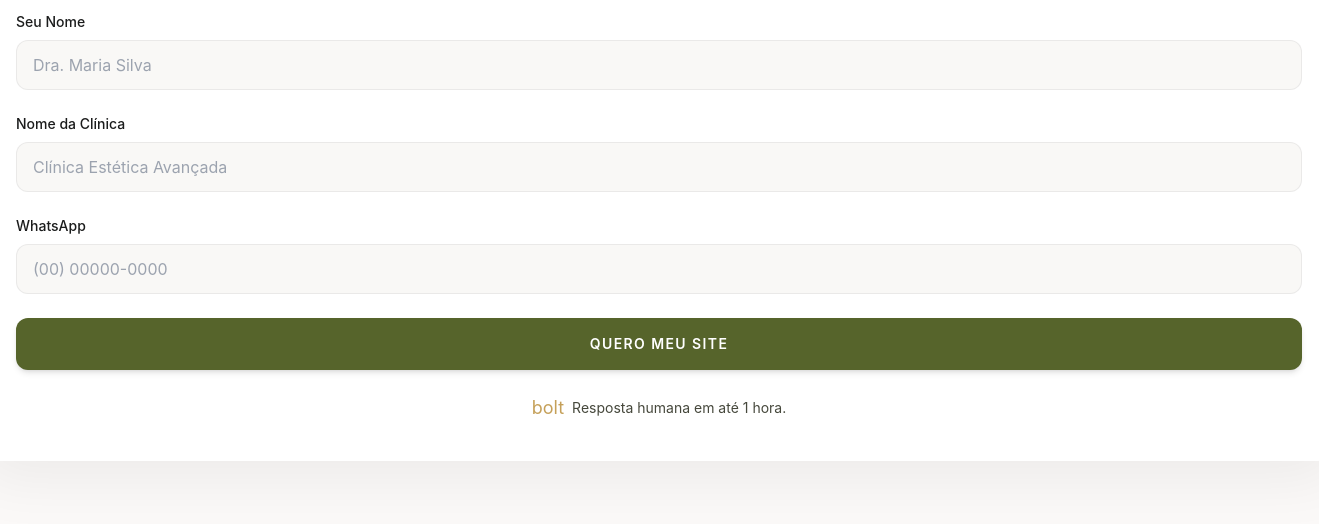
Test: LeadForm › shows an error message when the API fails and keeps the form
The image size is (1319, 524).
Type "Dra. Ana" into the field labelled "Seu Nome" at (659, 65), box [16,40,1302,90]
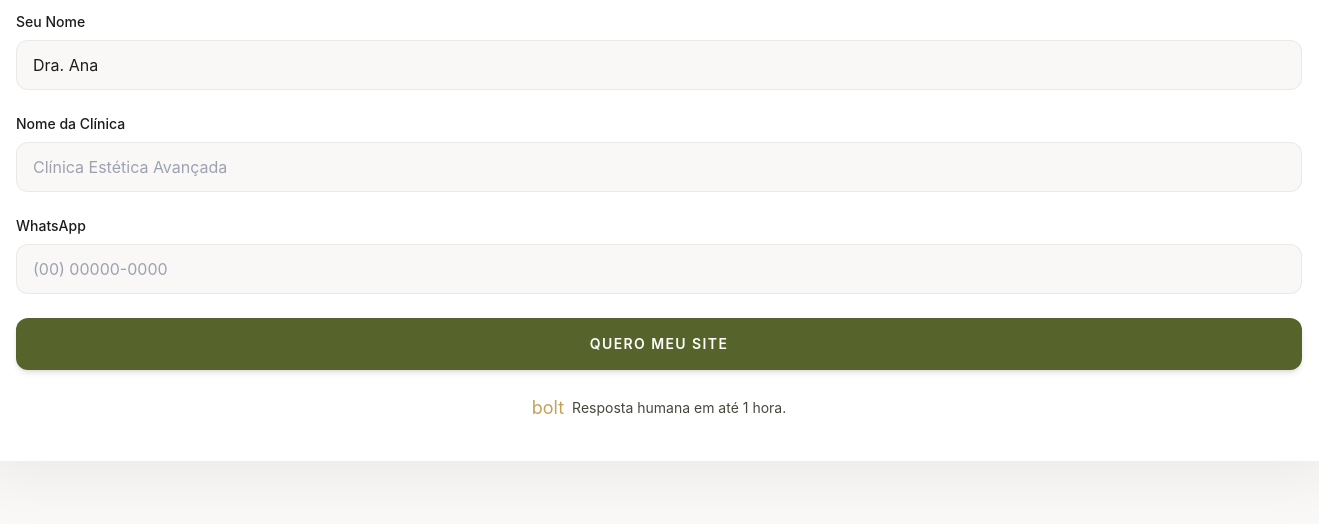
Type "Clínica Bella" into the field labelled "Nome da Clínica" at (659, 167), box [16,142,1302,192]
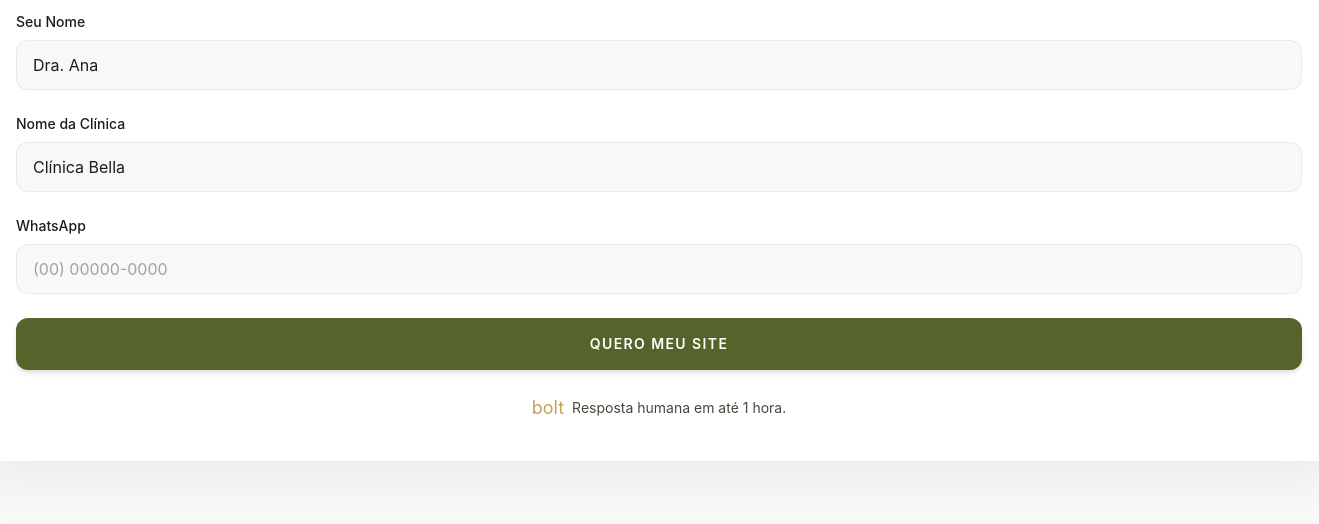
Type "(62) 99999-0000" into the field labelled "WhatsApp" at (659, 269), box [16,244,1302,294]
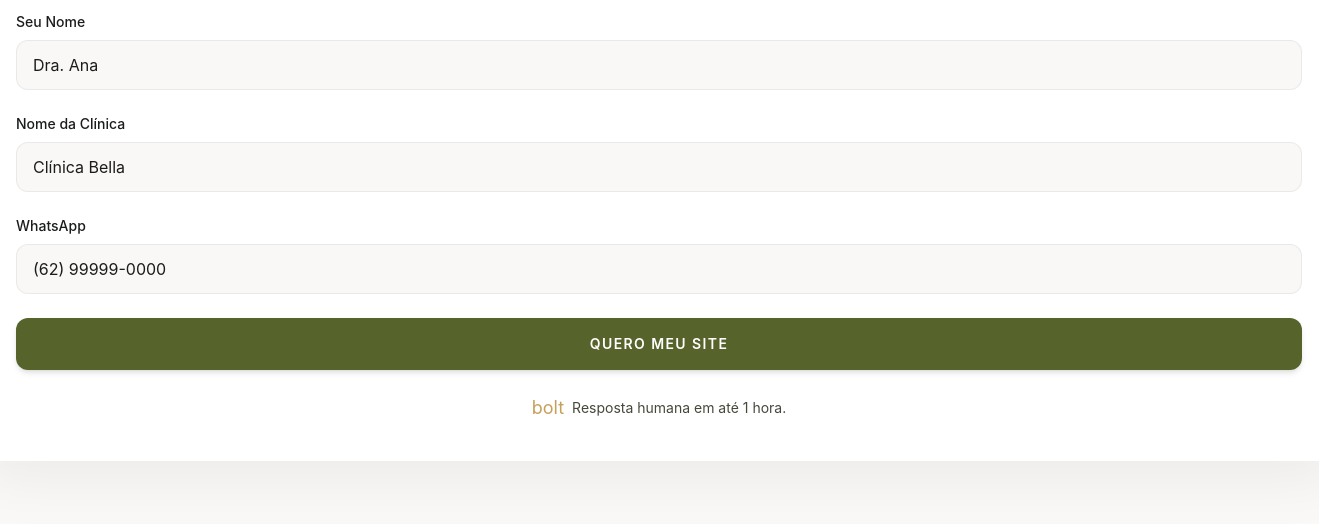
Click the button "Quero meu site" at (659, 344), box [16,318,1302,370]
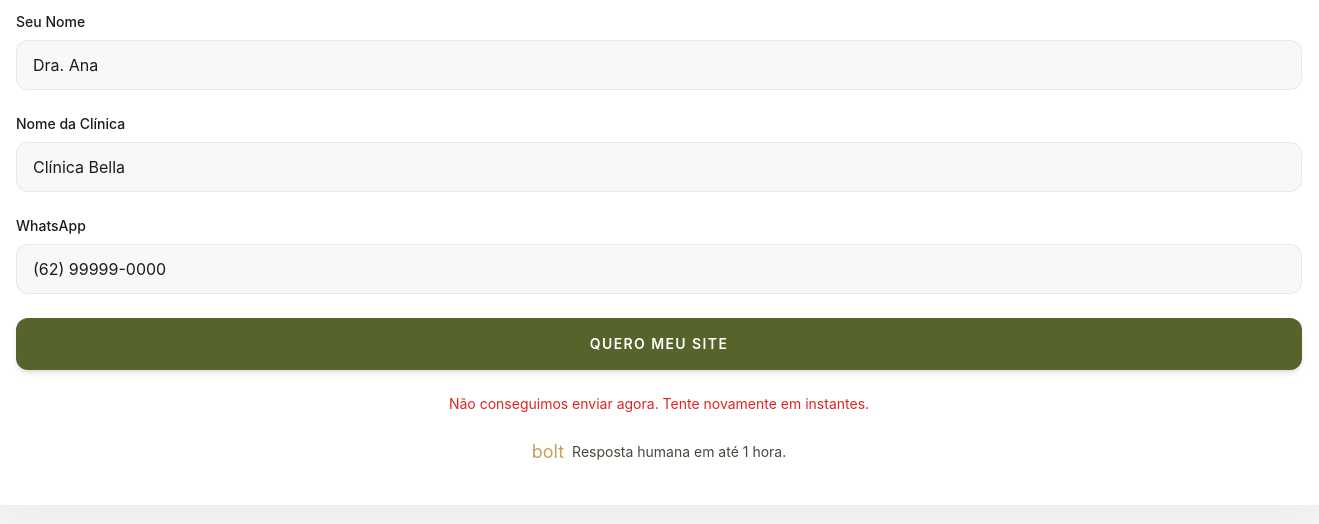
Check: the message "Não conseguimos enviar agora. Tente novamente em instantes." is shown, box [449,395,869,412]
